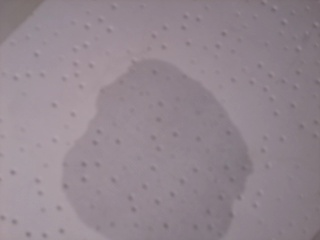Water_detected: (82, 80, 224, 225)
